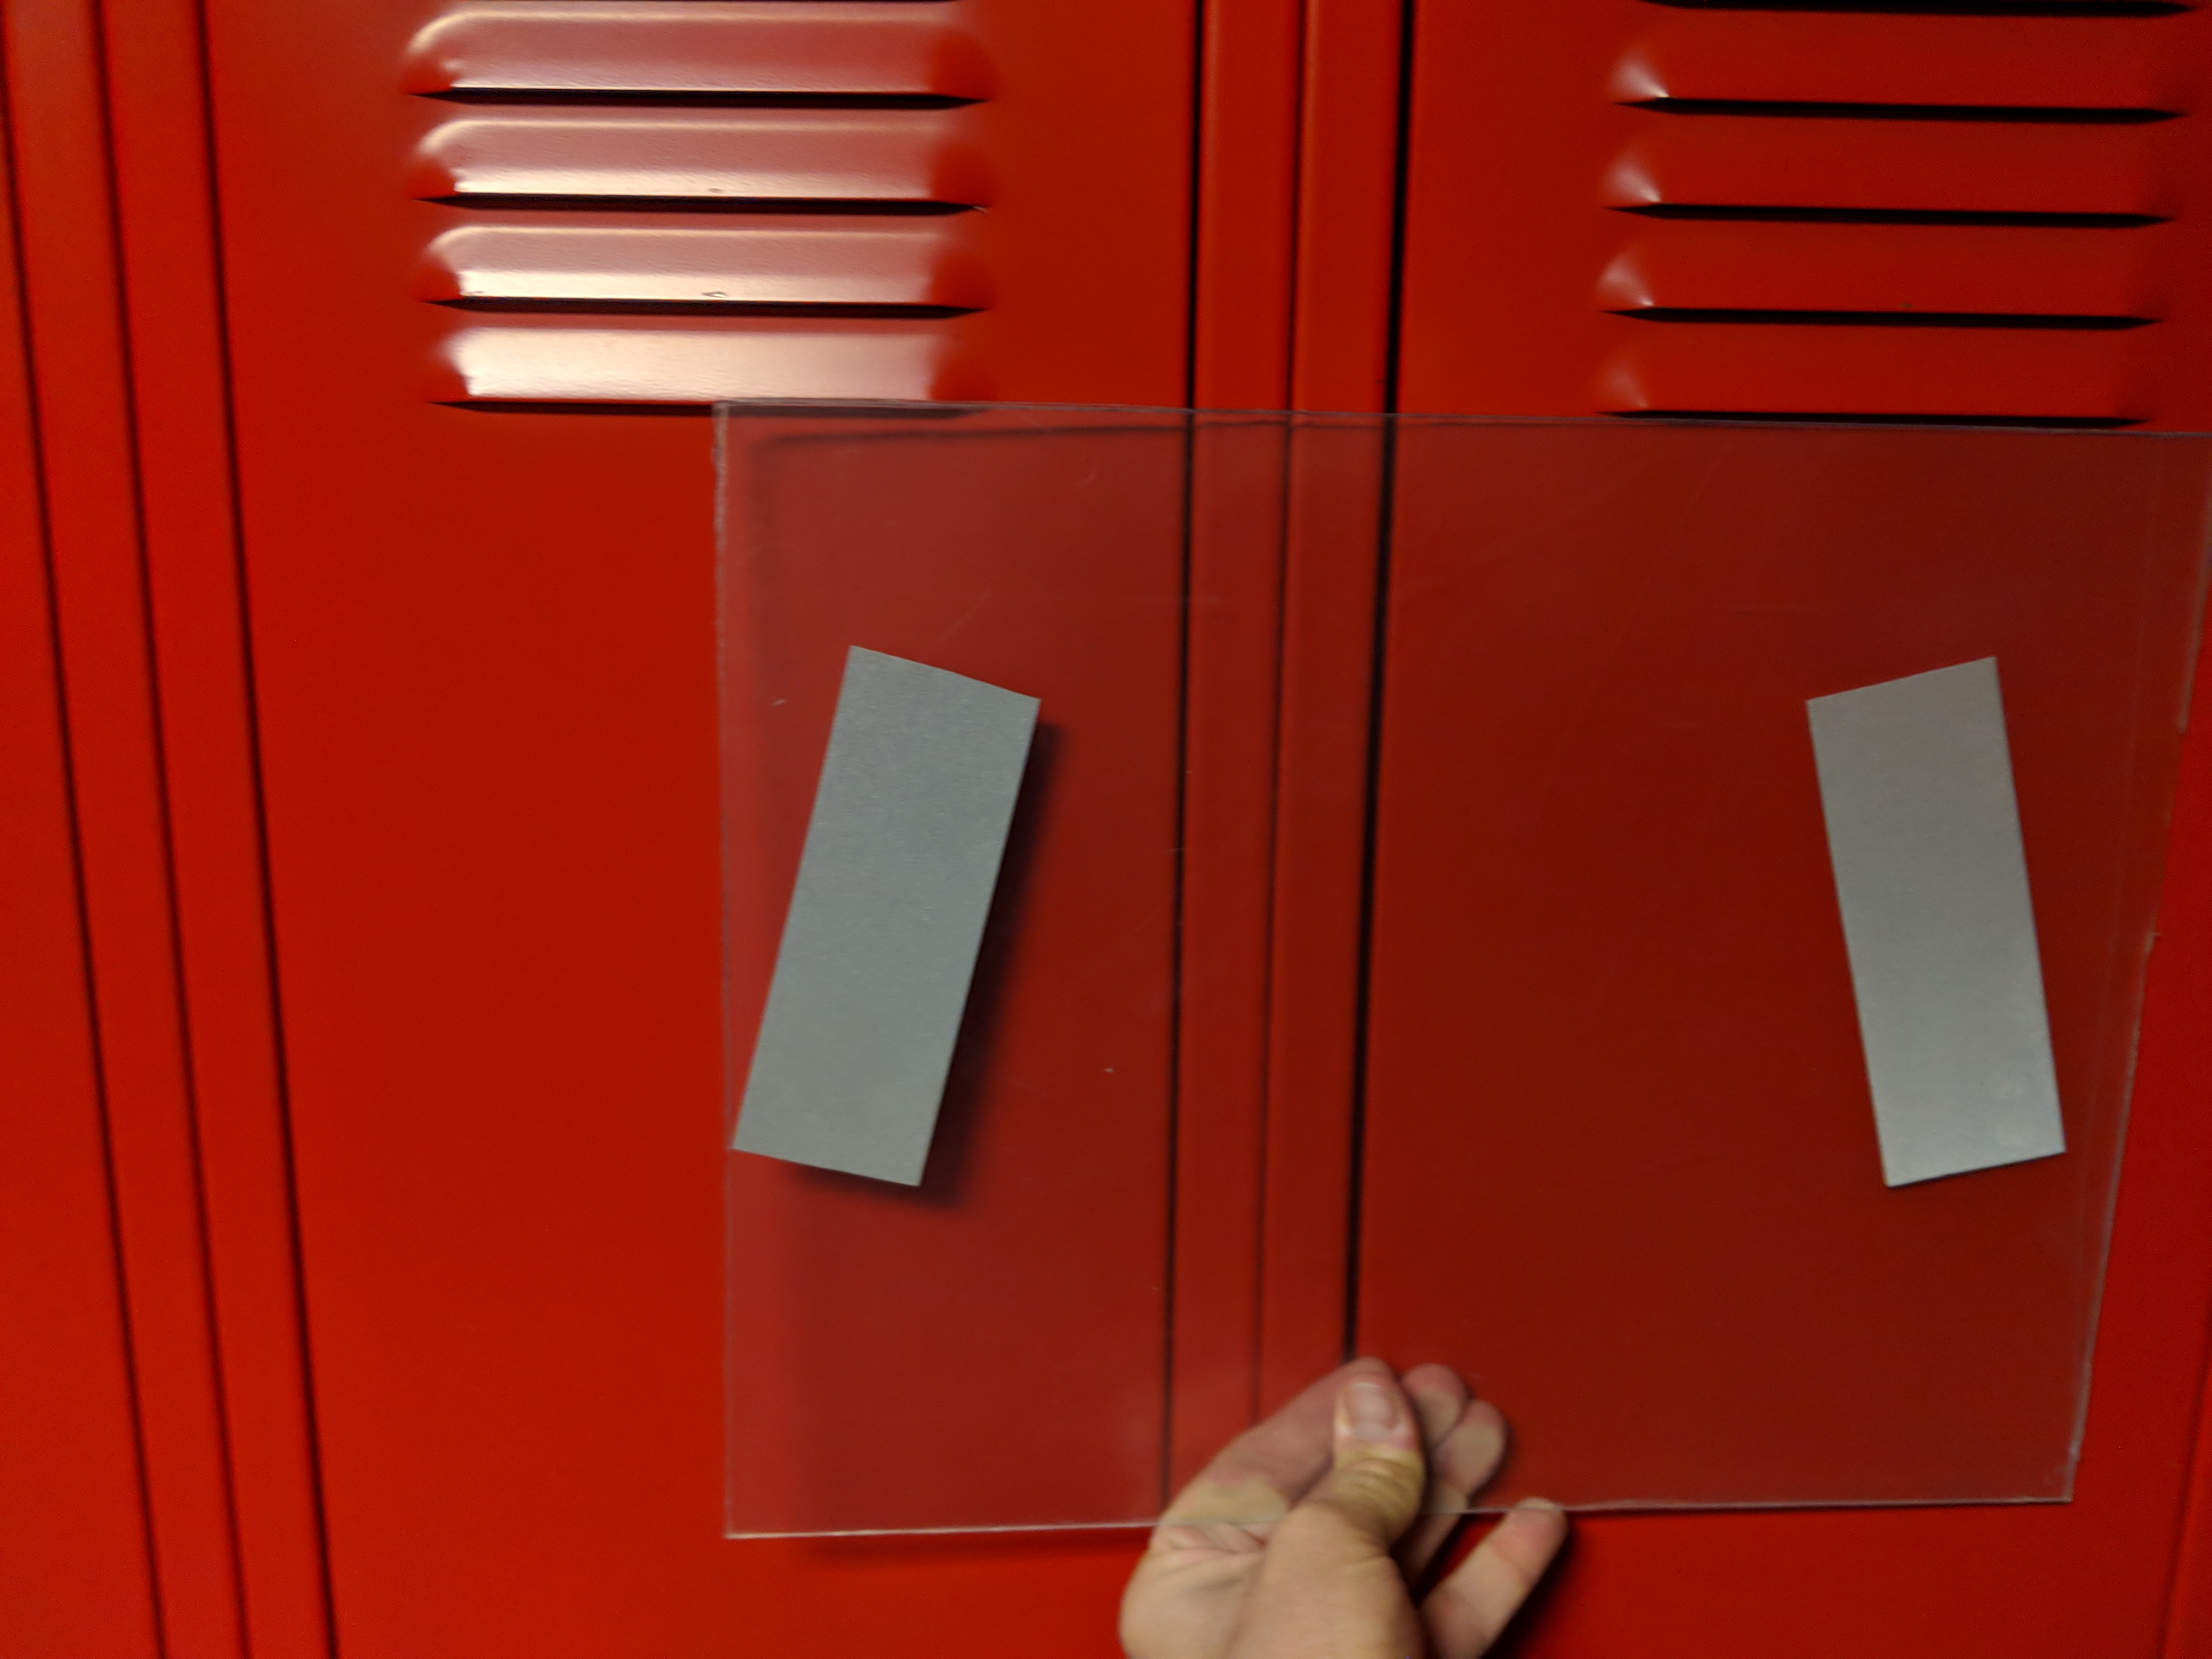vision_target: (733, 633, 2088, 1199)
